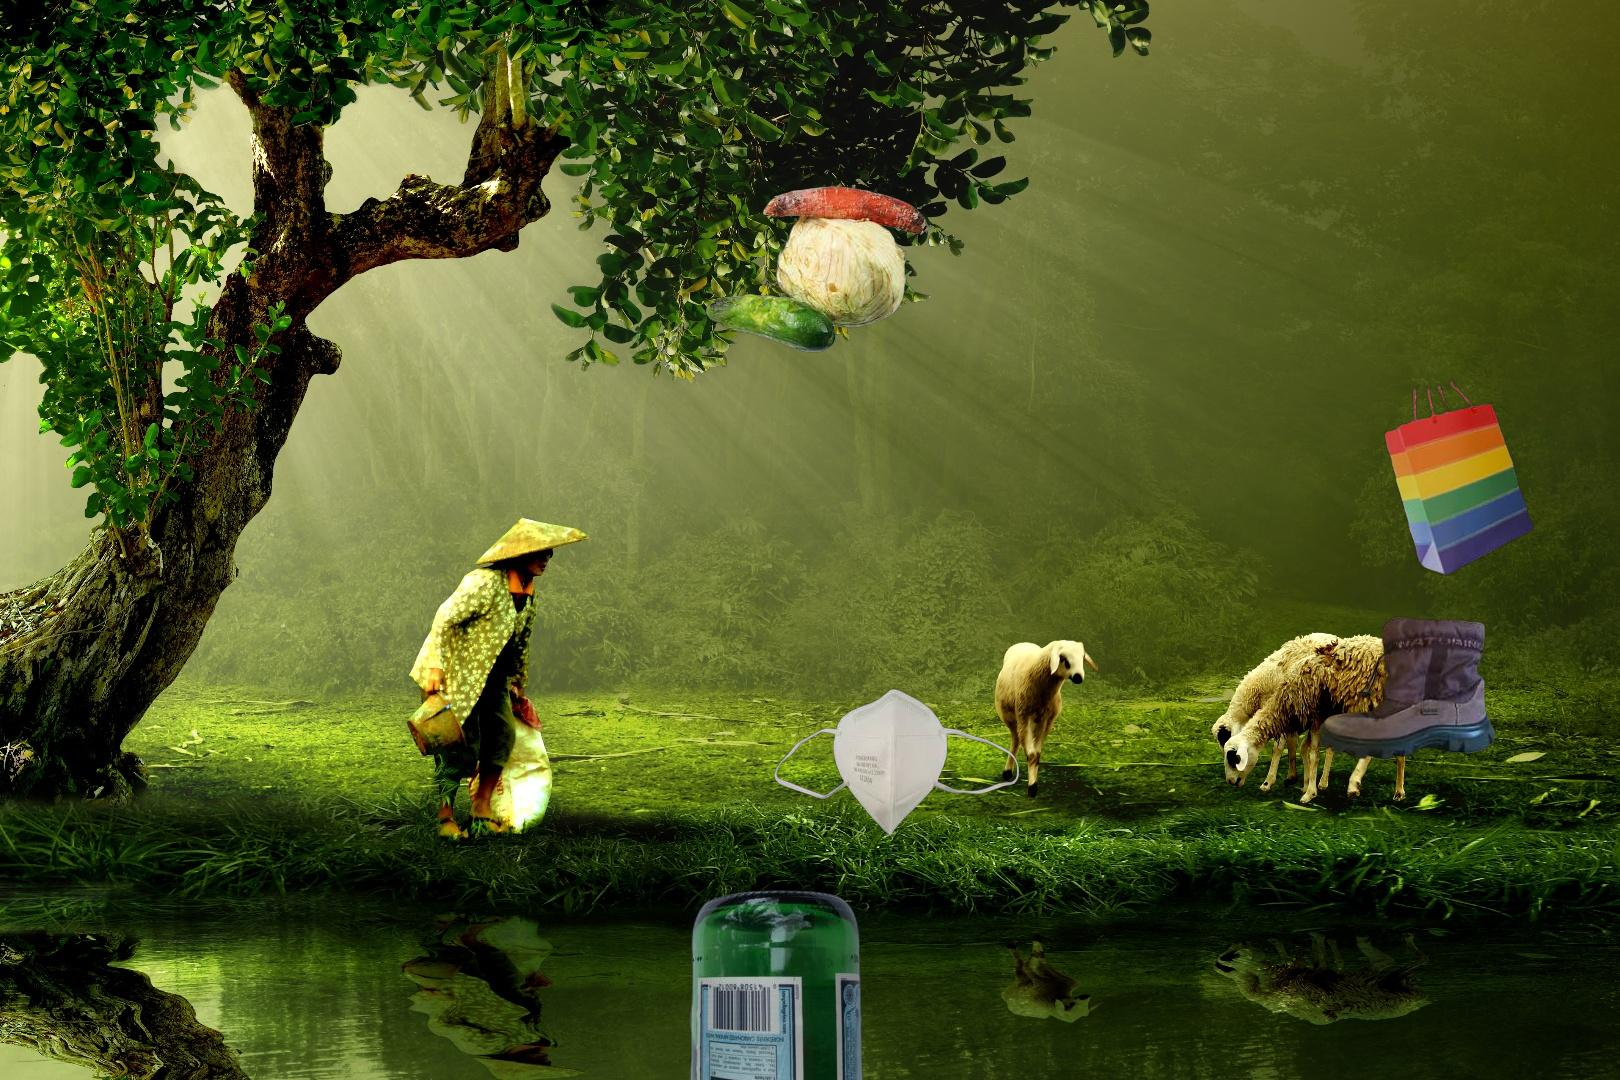biological: (705, 183, 932, 356)
glass: (683, 890, 869, 1080)
paper-bag: (1381, 374, 1536, 579)
shoes: (1315, 614, 1501, 762)
trash: (771, 686, 1022, 839)
